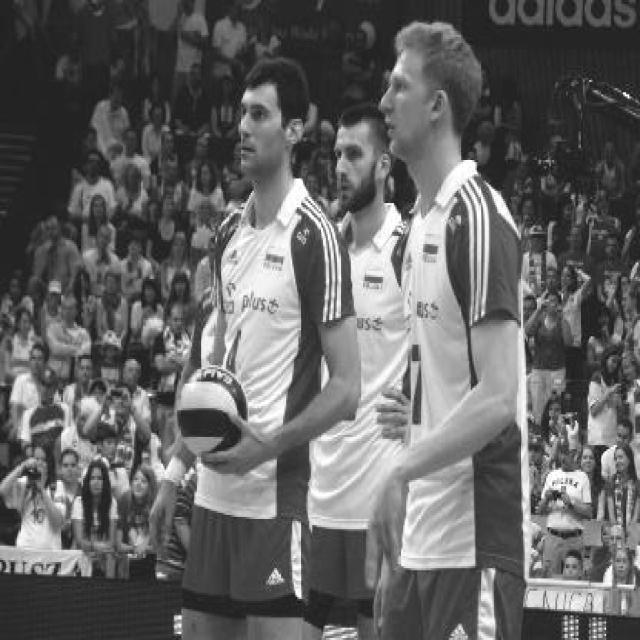volleyball: (176, 365, 248, 457)
